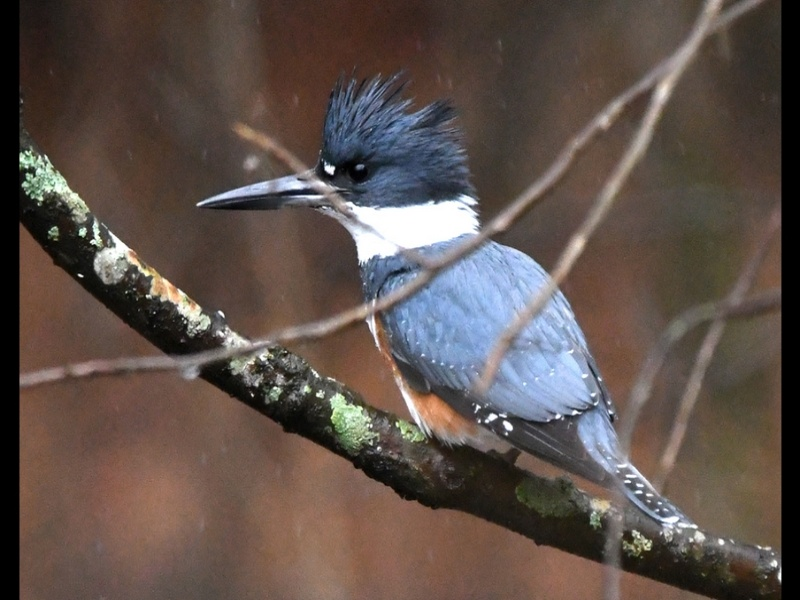kingfisher: (187, 66, 699, 535)
